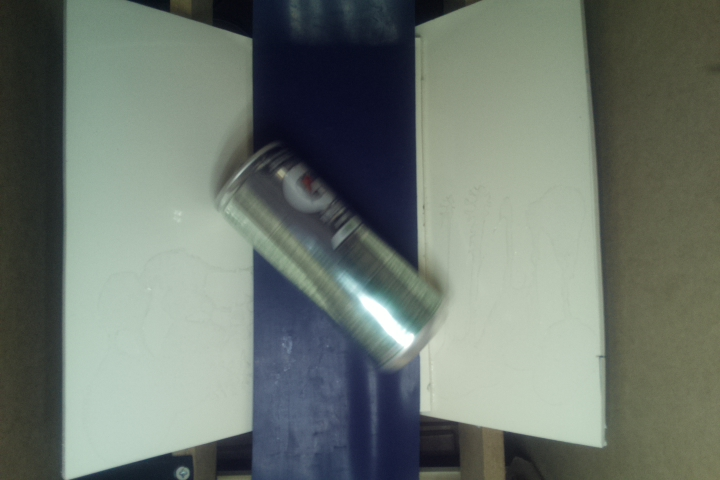can: (208, 141, 442, 372)
